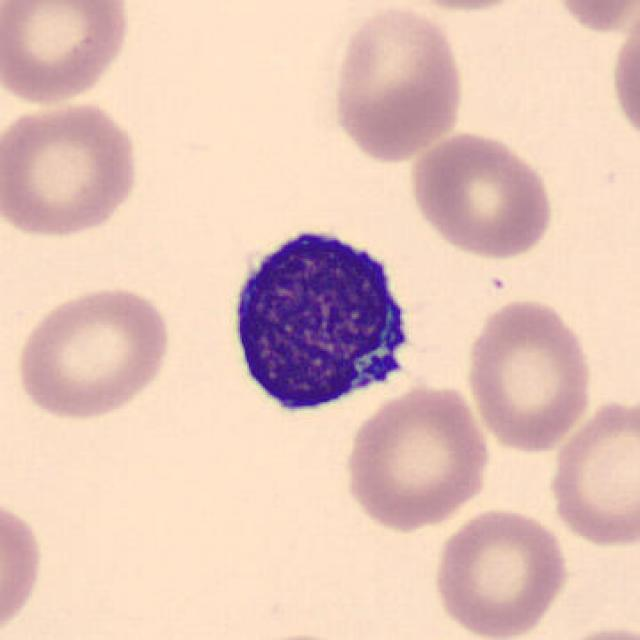Lymphocyte: (217, 212, 427, 423)
RBC: (340, 379, 496, 533), (11, 280, 174, 423), (327, 2, 469, 164), (460, 294, 596, 455), (0, 97, 146, 242), (406, 127, 558, 261), (428, 504, 572, 640), (0, 0, 135, 109), (544, 393, 638, 548), (0, 492, 48, 640), (608, 5, 640, 150), (546, 0, 638, 37), (386, 0, 542, 14), (540, 620, 638, 640)
